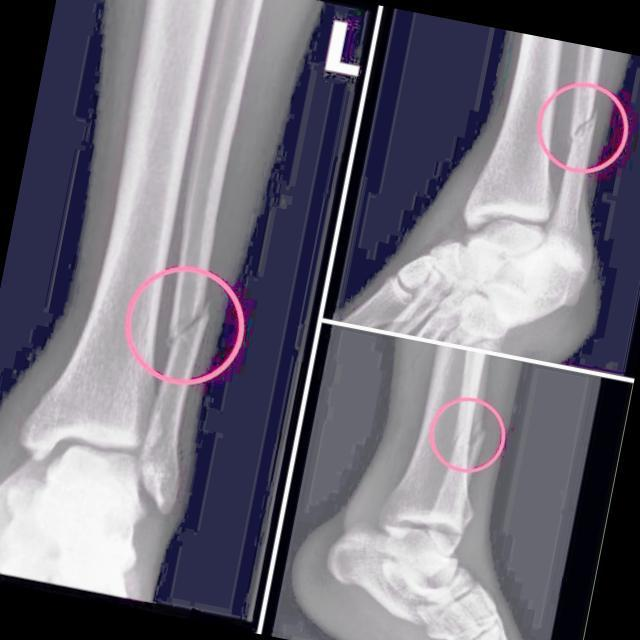Comminuted Fracture: (166, 292, 219, 363), (566, 90, 608, 153), (449, 412, 489, 462)
